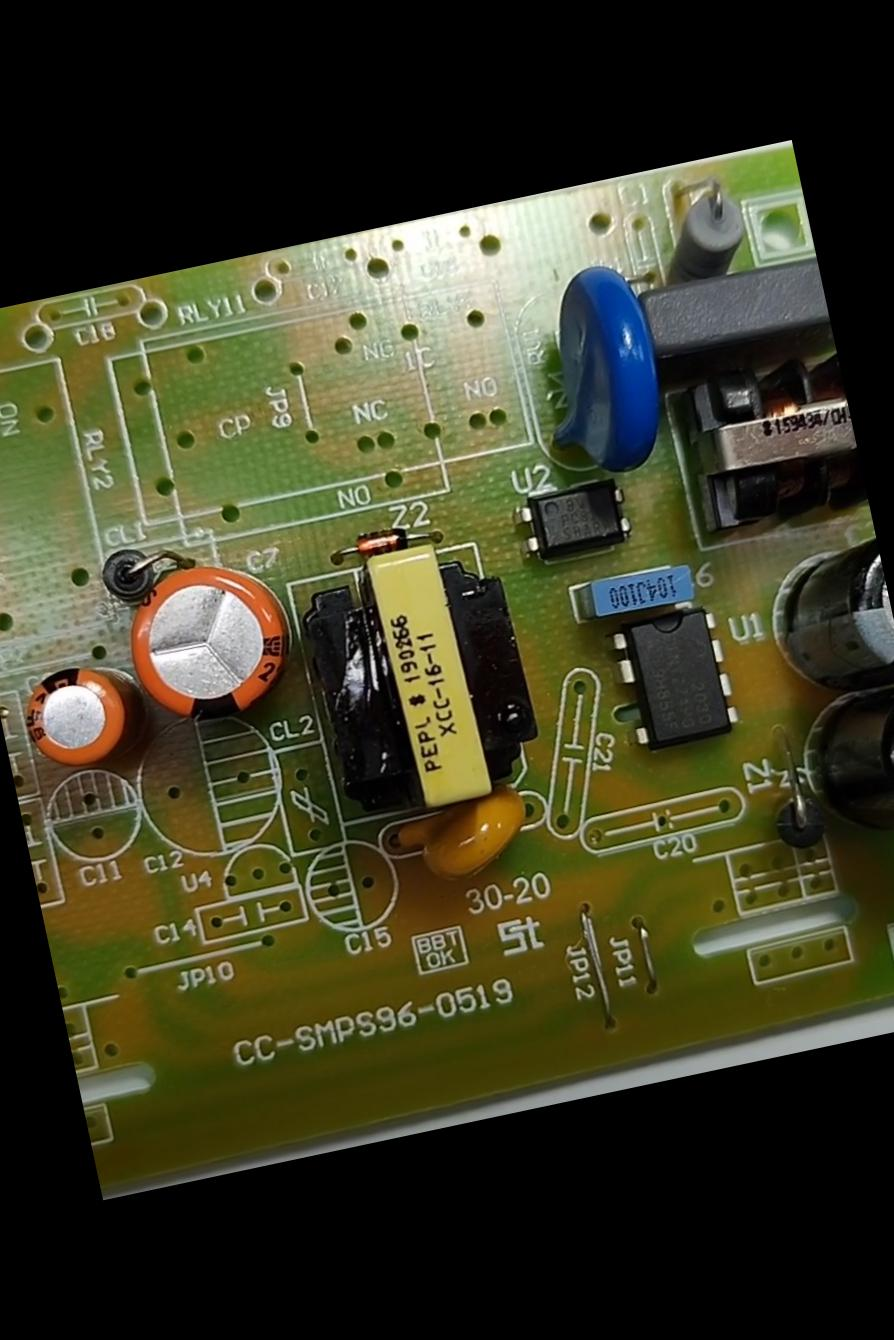Cap1: (105, 542, 309, 744)
Cap2: (6, 642, 150, 788)
Cap3: (752, 516, 893, 715)
Cap4: (797, 670, 893, 862)
MOSFET: (594, 585, 758, 769)
Mov: (505, 249, 684, 501)
Resistor: (646, 182, 757, 300)
Transformer: (276, 508, 556, 847), (642, 328, 871, 560)
